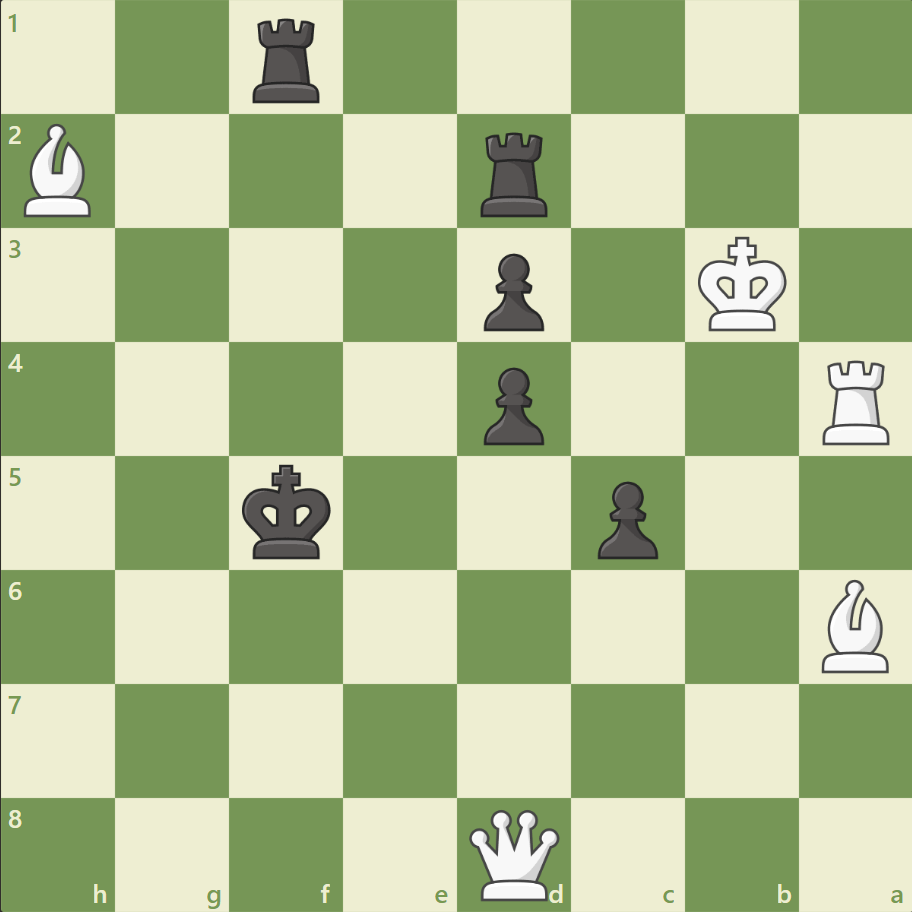B: (812, 574, 896, 676), (17, 120, 101, 222)
K: (692, 231, 792, 339)
Q: (464, 804, 563, 903)
R: (814, 352, 897, 449)
k: (238, 458, 338, 566)
p: (474, 359, 549, 450), (474, 246, 549, 337), (588, 473, 662, 564)
r: (473, 125, 556, 222), (246, 12, 329, 109)
